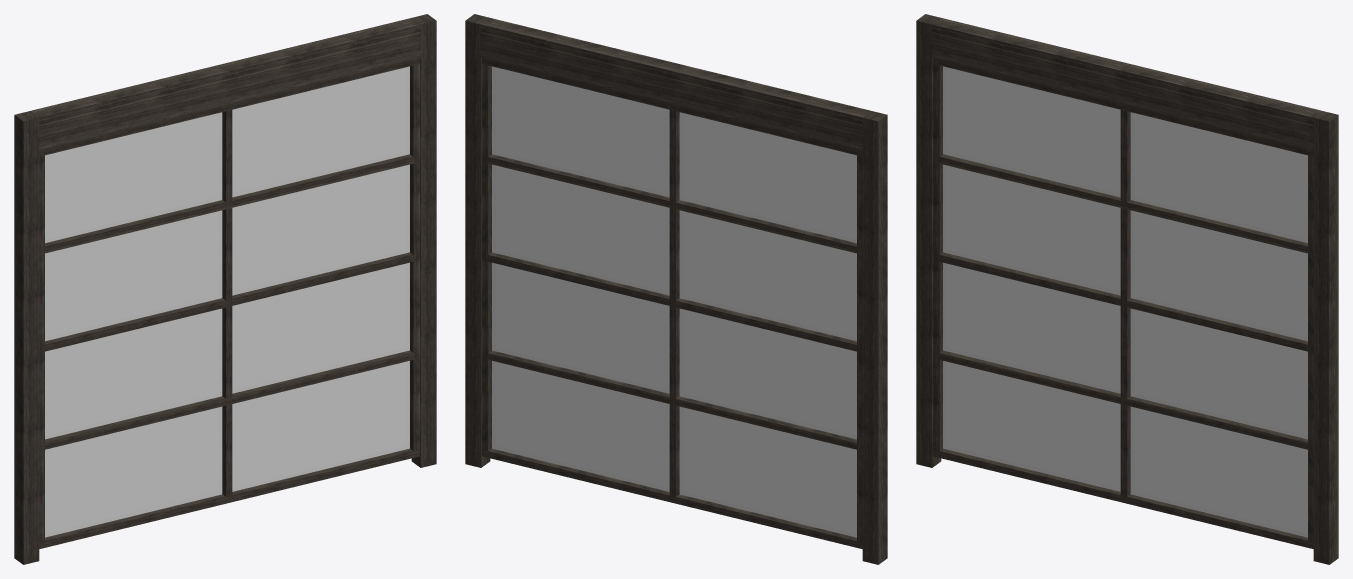
The model's file is es-polycaB_h2000_blackebony.fbx.
3 views of the same model, side by side, from view 1: azimuth 30°, elevation 25°; view 2: azimuth 150°, elevation 25°; view 3: azimuth 330°, elevation 25° (orthographic).
Visible parts, largest first — view 1: es-polycaB_h2000_blackebony; view 2: es-polycaB_h2000_blackebony; view 3: es-polycaB_h2000_blackebony.
Part boxes in pixels (x1,y1,x2,y2): es-polycaB_h2000_blackebony: (14,14,436,564); es-polycaB_h2000_blackebony: (465,14,887,564); es-polycaB_h2000_blackebony: (916,14,1338,564).
Size of the model in its own units: 195 by 200 by 7.5.
2 materials, 1 textured.
